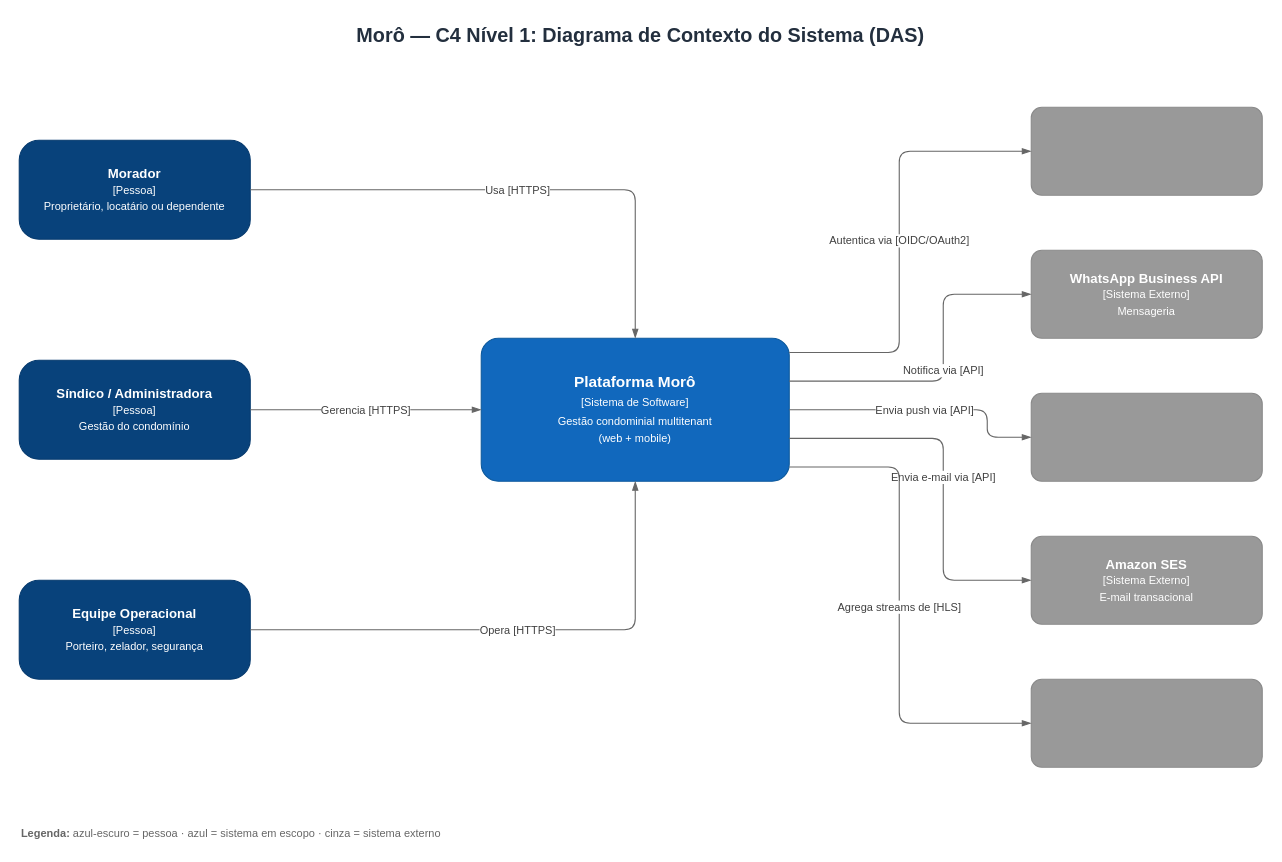
This 1282x862 diagram has some shape labels left out. Here are the shapes that lost their labels. From the top down, the box of each, then its label:
(1030, 106, 1262, 195): Amazon Cognito [Sistema Externo] Identidade e login social
(1030, 392, 1262, 481): FCM / APNs [Sistema Externo] Push notifications
(1030, 678, 1262, 767): Câmeras IP (NVR local) [Sistema Externo] Streams RTSP/HLS
